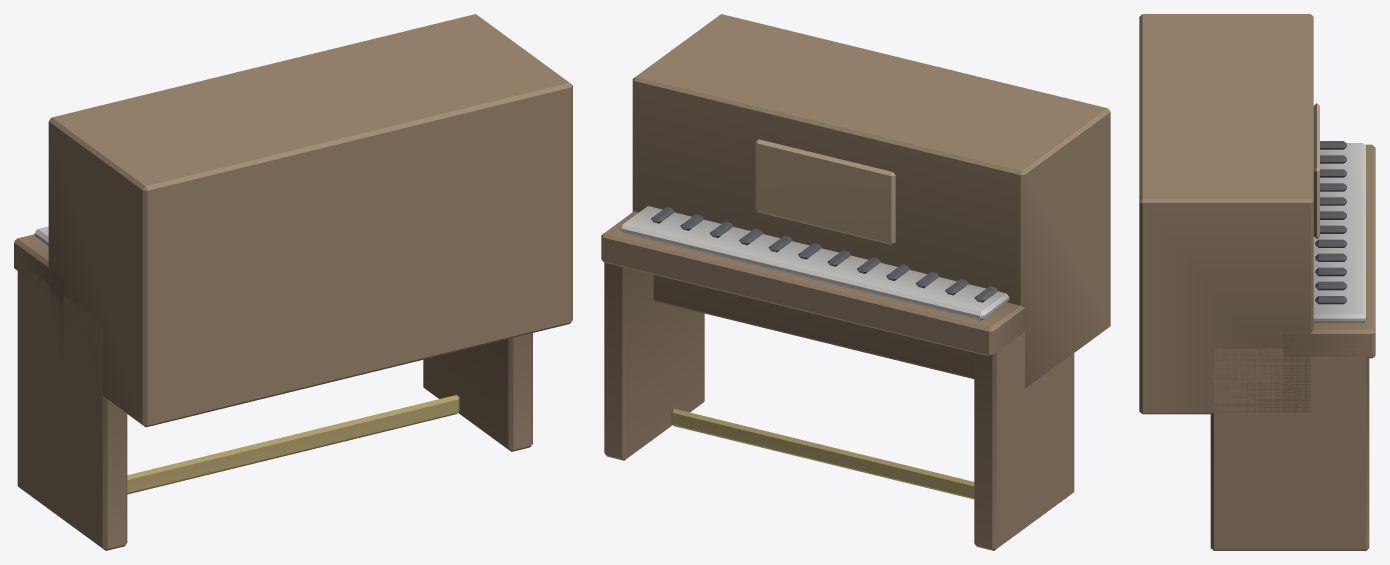
Rendered from furn_piano__walnut.glb.
The picture shows the model from 3 angles, left to right: view 1: azimuth 30°, elevation 25°; view 2: azimuth 150°, elevation 25°; view 3: azimuth 270°, elevation 25°; orthographic projection. The views are drawn at different scales.
Size of the model in its own units: 1.4 by 1.22 by 0.745.
